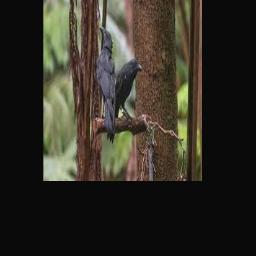Crow: (107, 59, 142, 144), (99, 26, 115, 142)
